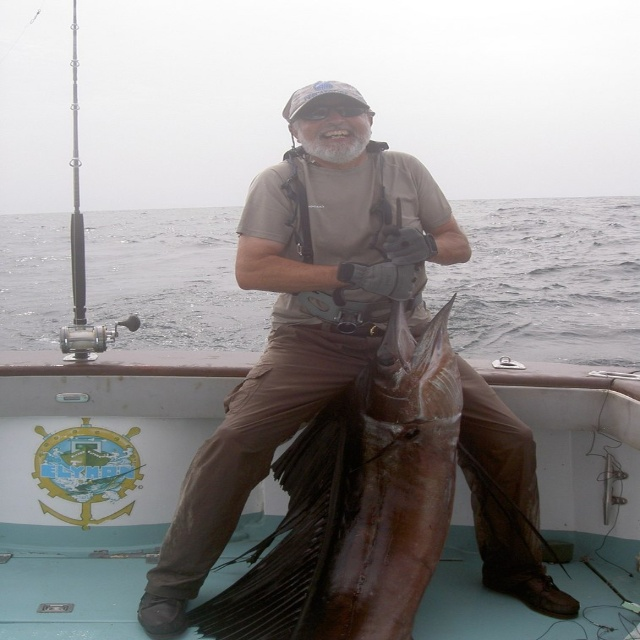Fish: (179, 196, 573, 640)
